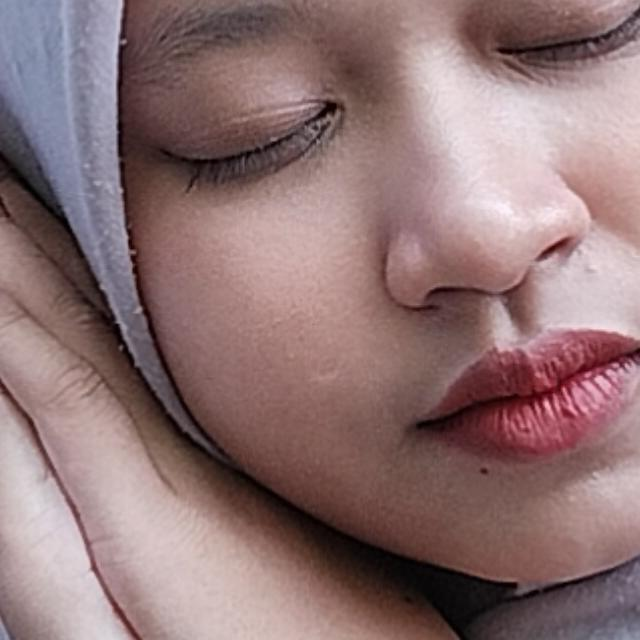tidur: (0, 0, 606, 640)
